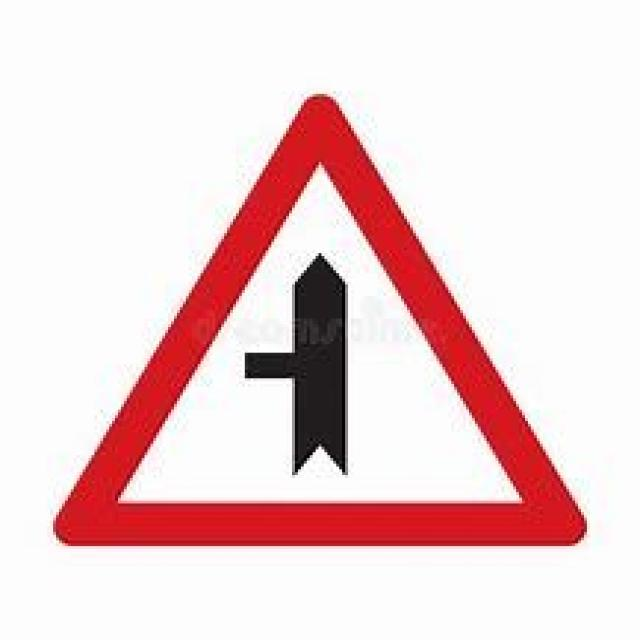SIDE_ROAD_LEFT: (47, 91, 584, 543)
